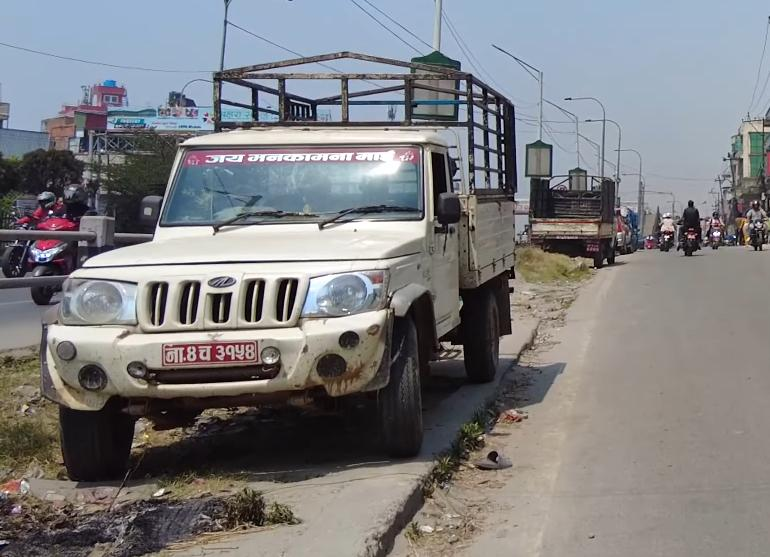bike: (668, 196, 711, 254), (743, 194, 770, 258)
scooter: (8, 178, 93, 308)
transport_vehicle: (27, 47, 522, 492), (524, 154, 624, 276)
